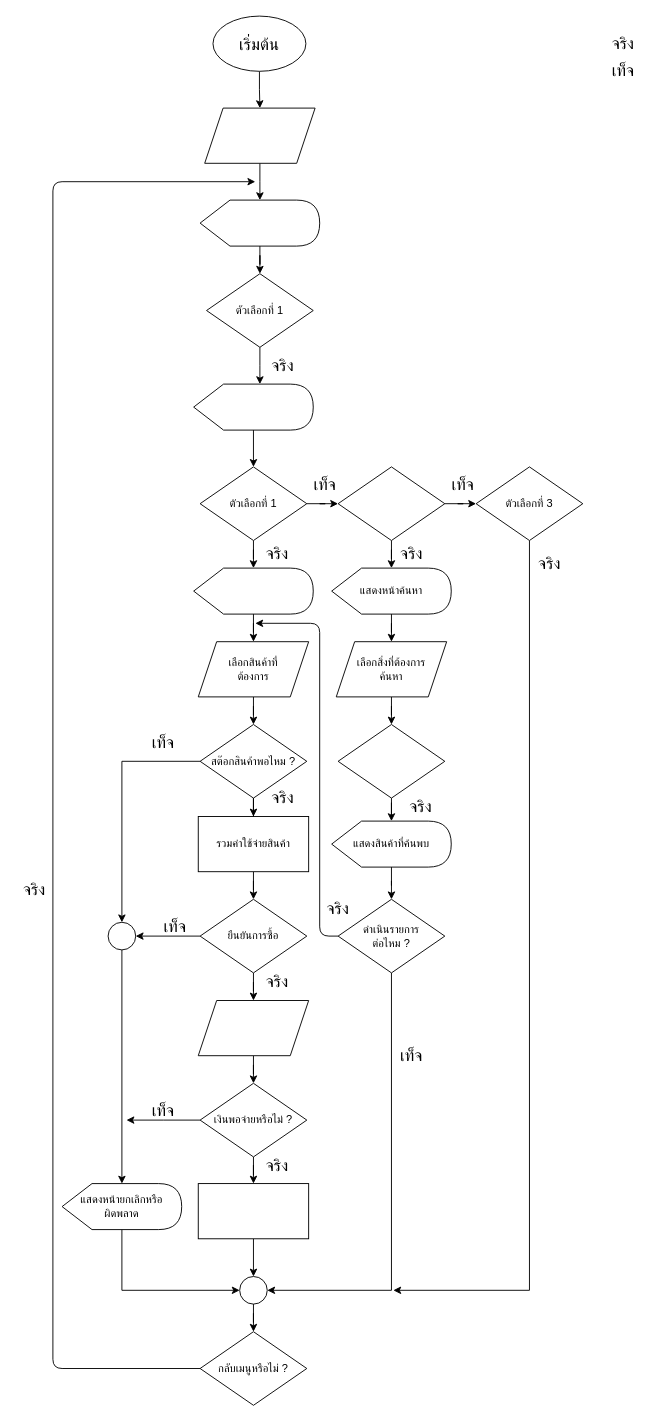
The diagram is 657 pixels wide and 1421 high, and some of its shapes have lost their labels. Here are the shapes that lost their labels. From the top down, the centre of each, then its label:
At point (259, 135): "ดึงข้อมูลจาก menu.txt".
At point (259, 222): "แสดงหน้าเมนู".
At point (253, 406): "แสดงหน้าลูกค้า".
At point (391, 503): "ตัวเลือกที่ 2".
At point (253, 590): "แสดงหน้าซื้อสินค้า".
At point (391, 761): "มีรายการสินค้าไหม ?".
At point (253, 1028): "รับเงินลูกค้า".
At point (253, 1211): "ทอนเงินและ ลบสต๊อกสินค้า".
